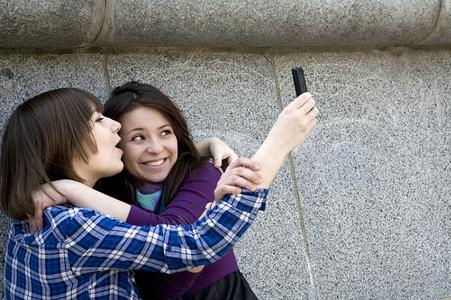person: (2, 86, 322, 295)
